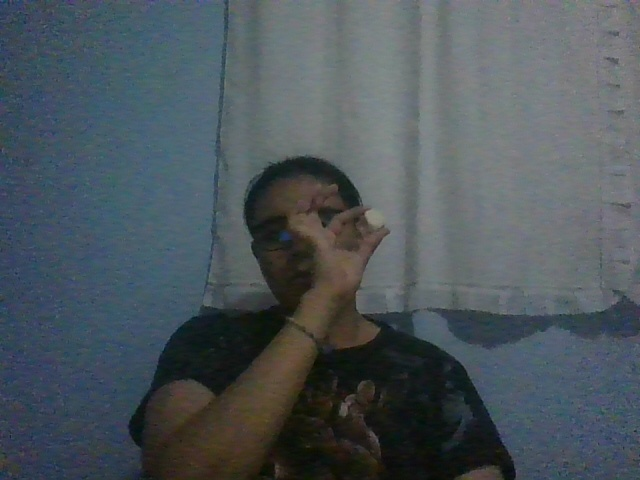goma: (363, 209, 386, 232)
